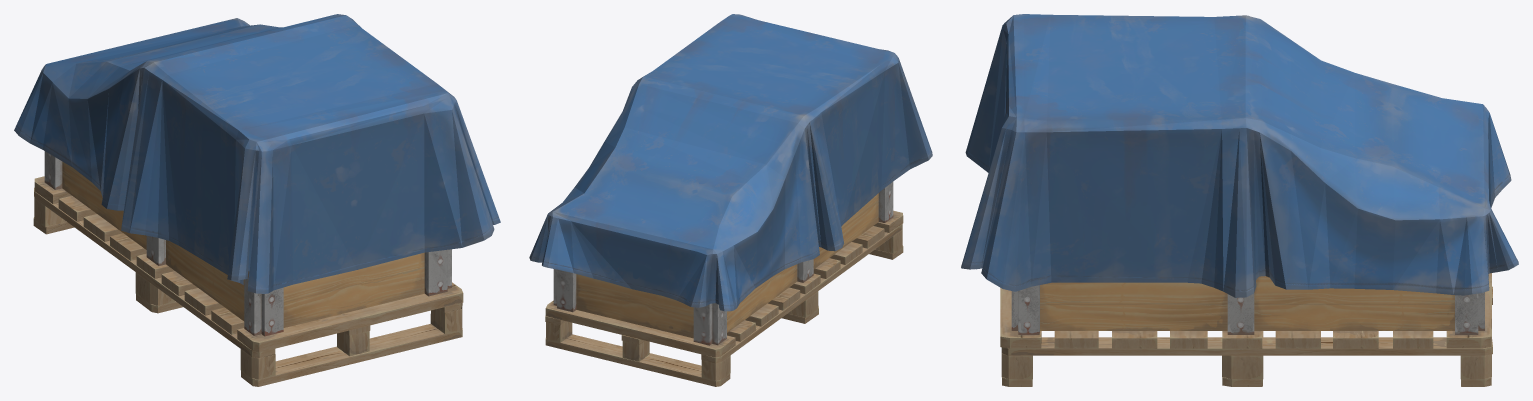
File: P_Construction_005_S1_M01.obj
3 views of the same model, side by side, from view 1: azimuth 30°, elevation 25°; view 2: azimuth 150°, elevation 25°; view 3: azimuth 270°, elevation 25° (orthographic). The views are drawn at different scales.
Size of the model in its own units: 2.11 by 1.78 by 3.41.
1 material, 1 textured.
